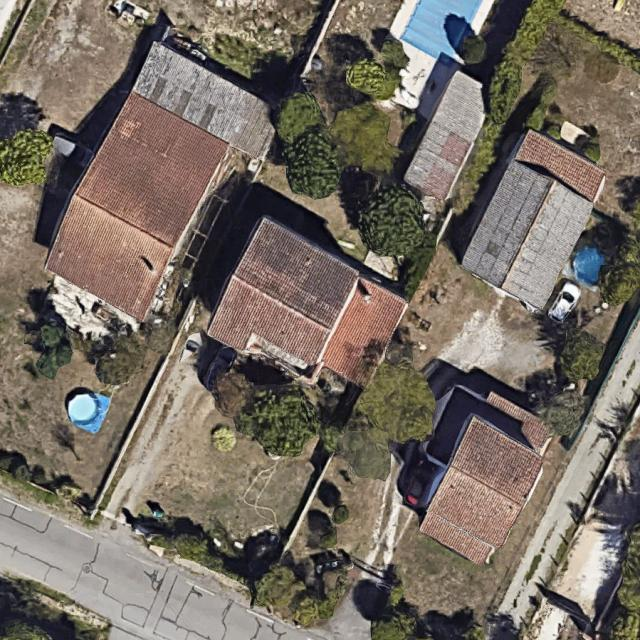maison: (35, 87, 231, 323), (197, 212, 416, 415), (383, 373, 565, 569), (450, 125, 614, 314)
